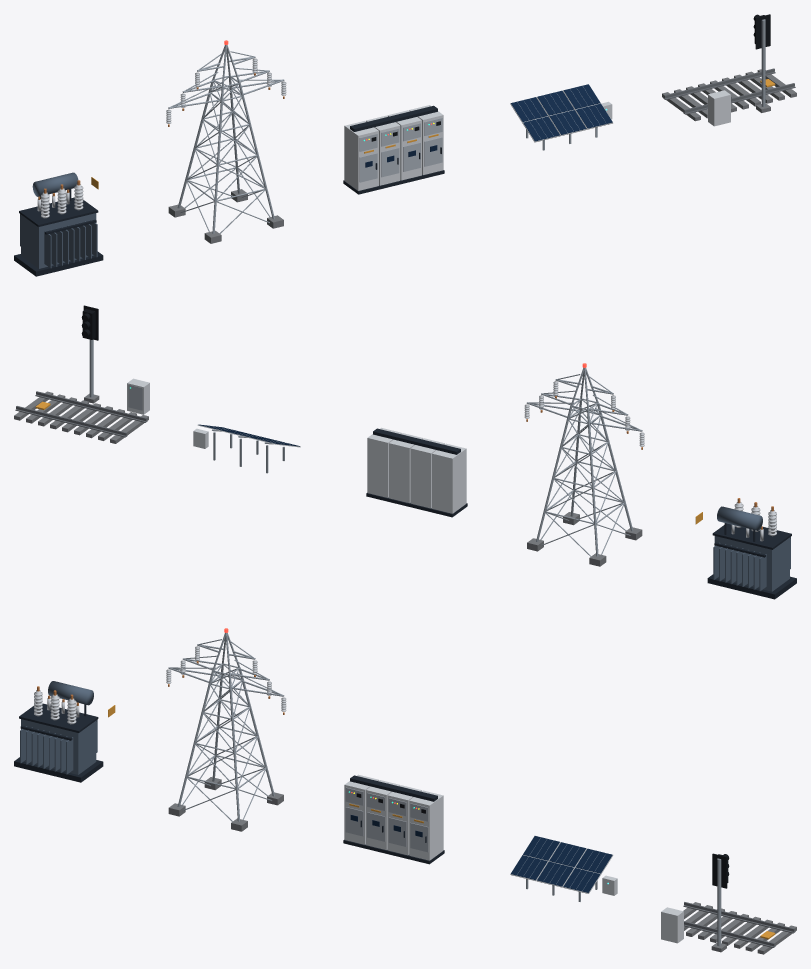
Rendered from electrical.glb.
3 views of the same model, one above another, from view 1: azimuth 30°, elevation 25°; view 2: azimuth 150°, elevation 25°; view 3: azimuth 330°, elevation 25° (orthographic).
Parts seen in each view (by area): view 1: Switchgear_Mesh, Tower_Mesh, Transformer_Mesh, RailSignal_Mesh, SolarArray_Mesh; view 2: Switchgear_Mesh, Tower_Mesh, Transformer_Mesh, RailSignal_Mesh, SolarArray_Mesh; view 3: Switchgear_Mesh, Tower_Mesh, Transformer_Mesh, RailSignal_Mesh, SolarArray_Mesh.
Part boxes in pixels (bbox=[...]): Switchgear_Mesh: bbox=[343, 105, 444, 194]; Tower_Mesh: bbox=[166, 40, 286, 243]; Transformer_Mesh: bbox=[14, 172, 103, 276]; RailSignal_Mesh: bbox=[662, 14, 796, 126]; SolarArray_Mesh: bbox=[510, 84, 613, 150]; Switchgear_Mesh: bbox=[366, 427, 467, 517]; Tower_Mesh: bbox=[524, 363, 644, 566]; Transformer_Mesh: bbox=[695, 498, 796, 599]; RailSignal_Mesh: bbox=[14, 305, 149, 443]; SolarArray_Mesh: bbox=[193, 424, 300, 473]; Switchgear_Mesh: bbox=[343, 774, 444, 864]; Tower_Mesh: bbox=[166, 628, 286, 831]; Transformer_Mesh: bbox=[14, 681, 115, 782]; RailSignal_Mesh: bbox=[661, 853, 796, 954]; SolarArray_Mesh: bbox=[510, 836, 617, 901].
Bounding box in the file's own units: 31.7 × 7.13 × 3.45.
